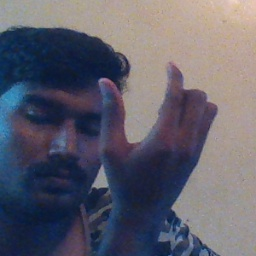U: (86, 51, 220, 198)
